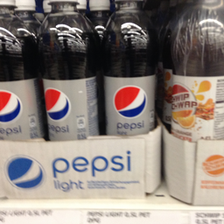soda: (35, 1, 99, 140), (100, 2, 157, 136), (1, 1, 46, 139)
